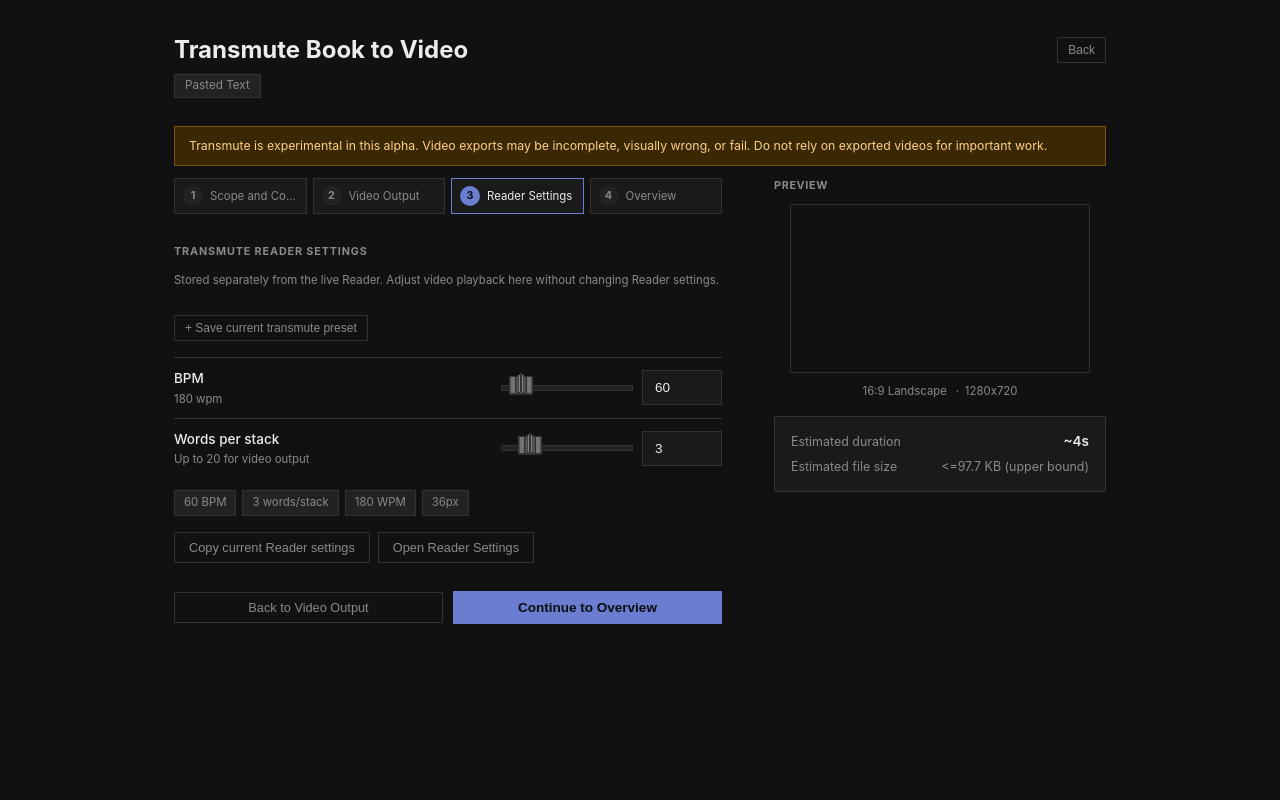
it: TransmuteView wizard navigation (characterization) › shows the overview summary derived from the current config
The image size is (1280, 800).
Click the button with class "transmute-stepper-item" showing "4 Overview": (656,196) left=590, top=178, right=722, bottom=214
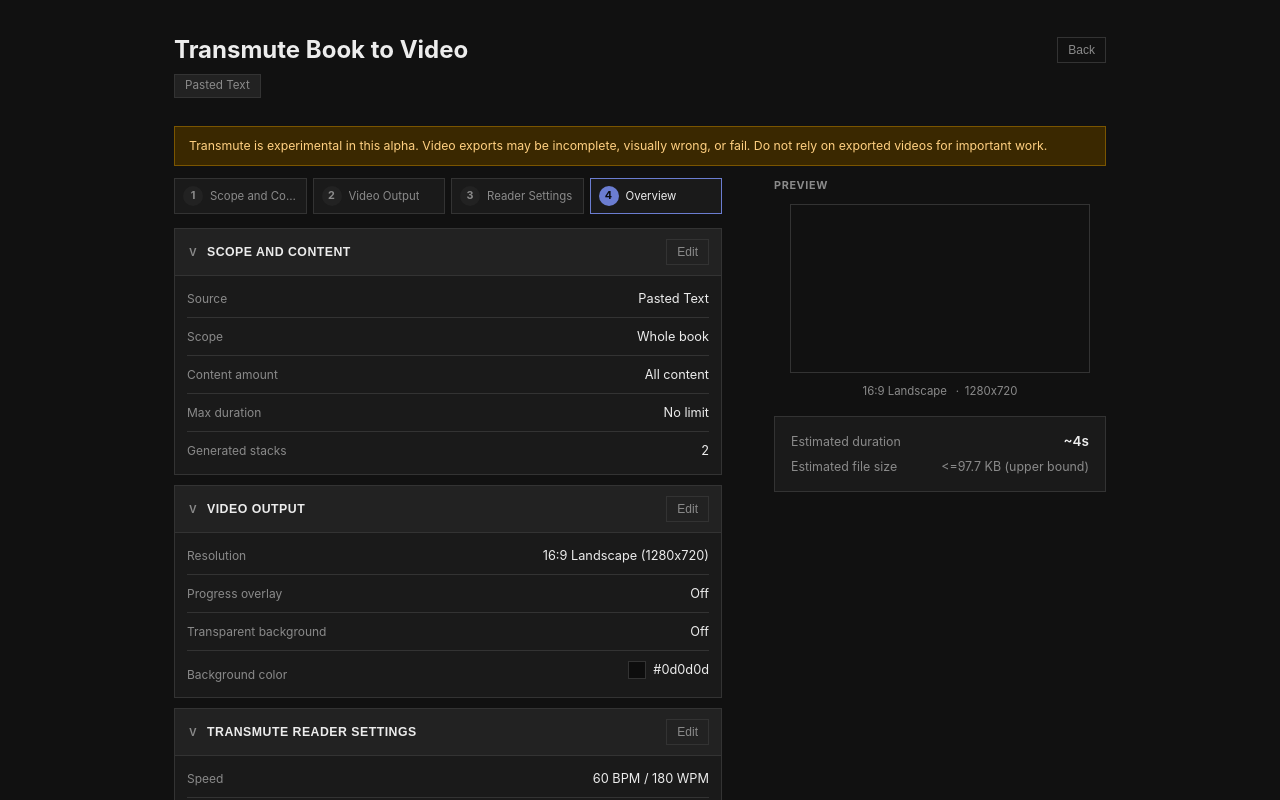
Expected: the text "All content" is shown, left=645, top=365, right=709, bottom=384
Expected: the text "No limit" is shown, left=664, top=403, right=709, bottom=422
Expected: the text "16:9 Landscape (1280x720)" is shown, left=543, top=546, right=709, bottom=565
